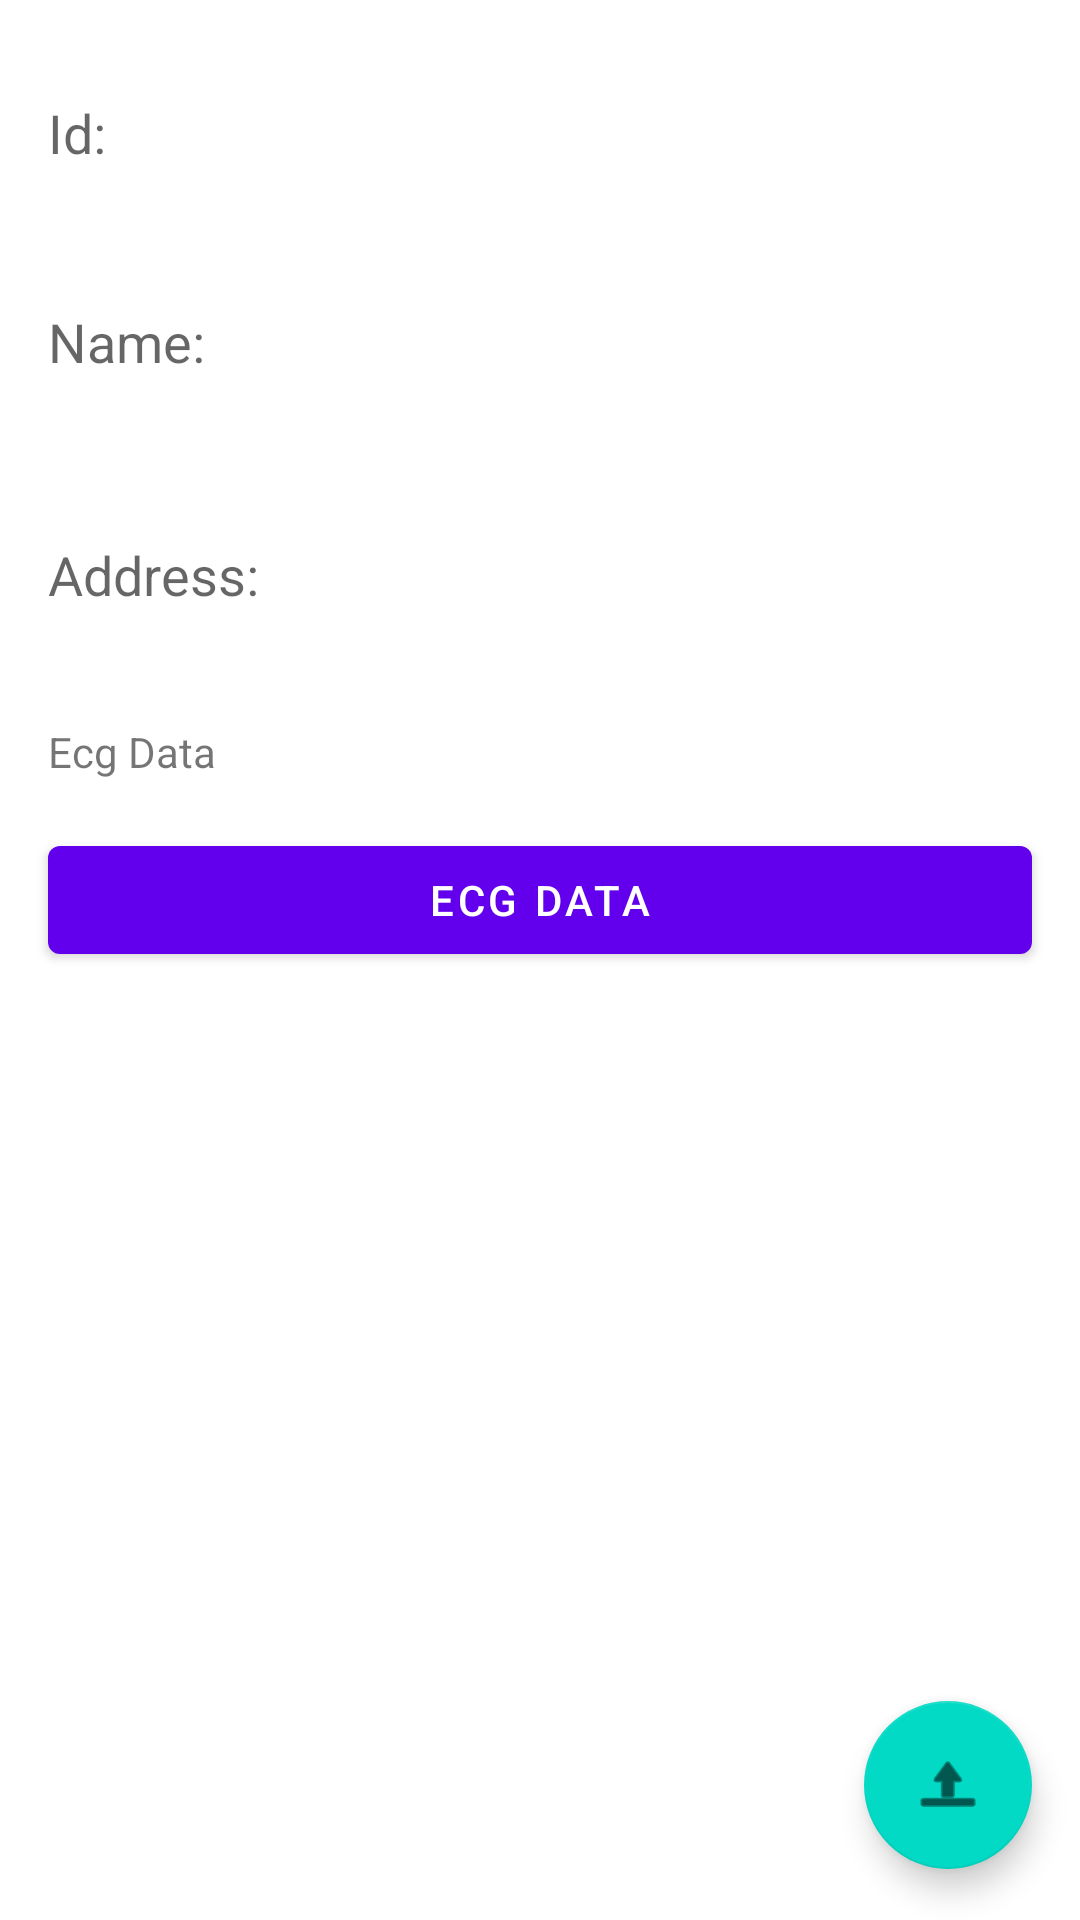

Named icons in this screenshot (1080 × 1920) and their bounding boxes, (x1, y1, x2, y2):
upload: (864, 1701, 1032, 1869)
